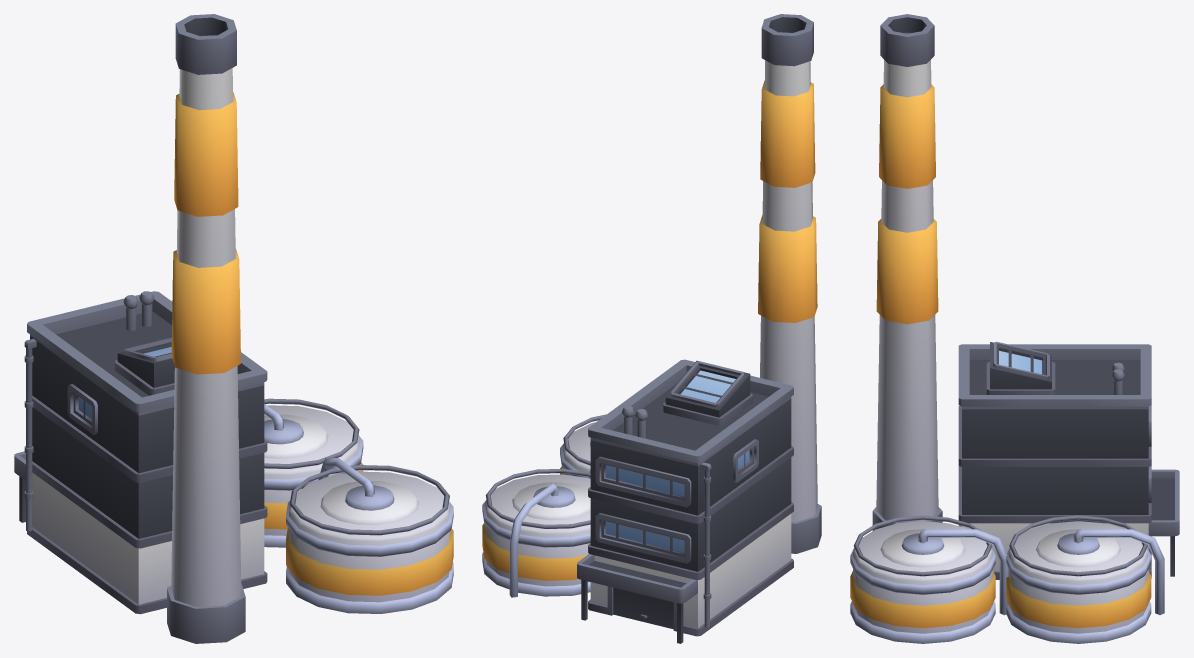
The model's file is plant_tanks.glb.
3 renders of one model, left to right at view 1: azimuth 30°, elevation 25°; view 2: azimuth 150°, elevation 25°; view 3: azimuth 270°, elevation 25°, orthographic. The views are drawn at different scales.
Visible parts, largest first — view 1: plant_tanks; view 2: plant_tanks; view 3: plant_tanks.
Boxes of the visible parts, x1=… form: plant_tanks: x1=14, y1=14, x2=453, y2=643; plant_tanks: x1=482, y1=14, x2=821, y2=643; plant_tanks: x1=850, y1=14, x2=1179, y2=643.
Bounding box in the file's own units: 0.8254 × 1.62 × 0.94.
Materials: 5 (5 with a texture image).
